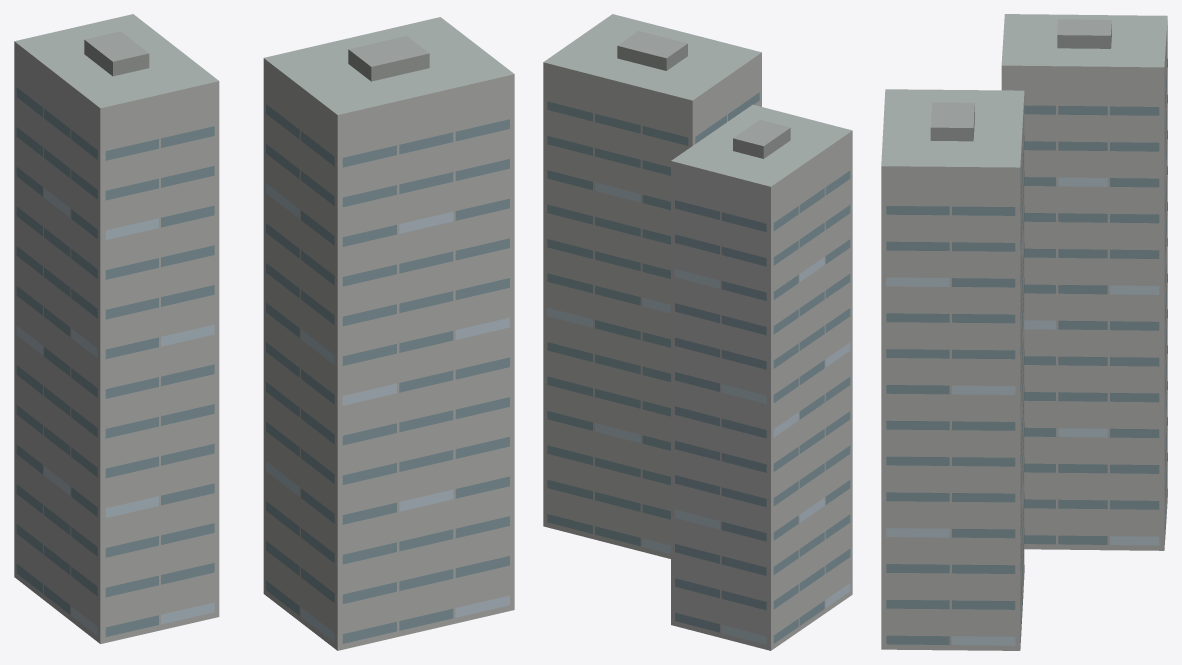
The model's file is apt-a10024756.glb.
The picture shows the model from 3 angles, left to right: view 1: azimuth 30°, elevation 25°; view 2: azimuth 150°, elevation 25°; view 3: azimuth 270°, elevation 25°; orthographic projection. The views are drawn at different scales.
Visible parts, largest first — view 1: apt-a10024756; view 2: apt-a10024756; view 3: apt-a10024756.
Part boxes in pixels (box(x1,y1,x2,y2)): apt-a10024756: box(14, 14, 514, 650); apt-a10024756: box(543, 14, 852, 650); apt-a10024756: box(881, 14, 1167, 650).
Size of the model in its own units: 59.71 by 90 by 47.1.
